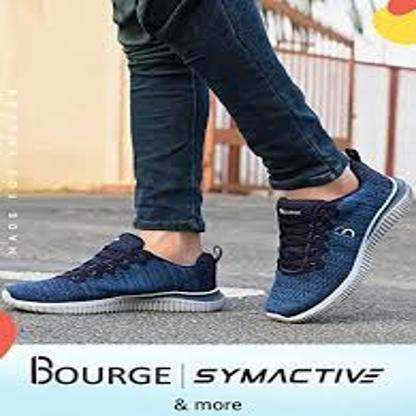not trash: (262, 149, 408, 337), (1, 235, 232, 321)
